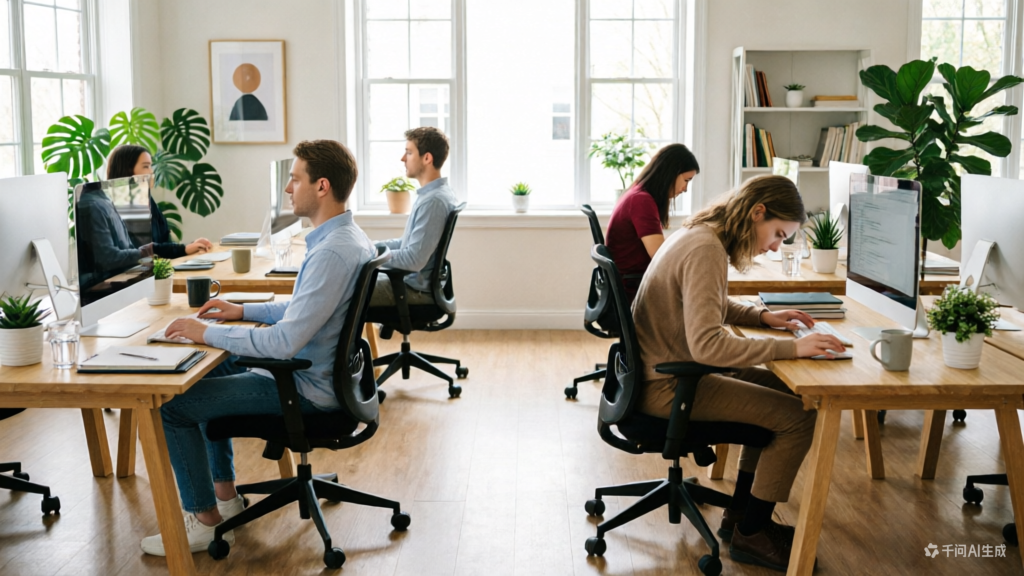sitting_bad: (631, 174, 823, 497)
sitting_good: (160, 135, 384, 506), (581, 130, 706, 334), (365, 121, 475, 328), (105, 140, 201, 277)
